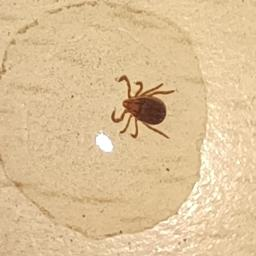Rhipicephalus sanguineus: (111, 76, 175, 140)
